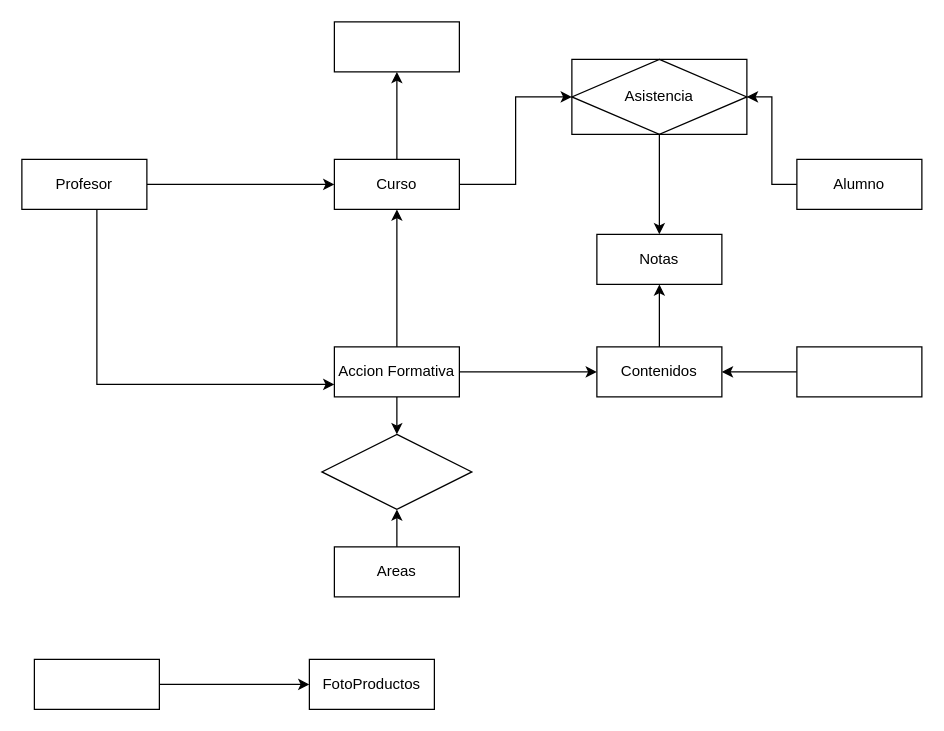
This 944x731 diagram has some shape labels left out. The shapes that lost their labels are listed below. From the top down, each one's centre as x and y in pixels, then its label:
point (396, 46): Aula
point (859, 371): Modulos
point (396, 471): AreasPorAccion
point (96, 683): Productos
